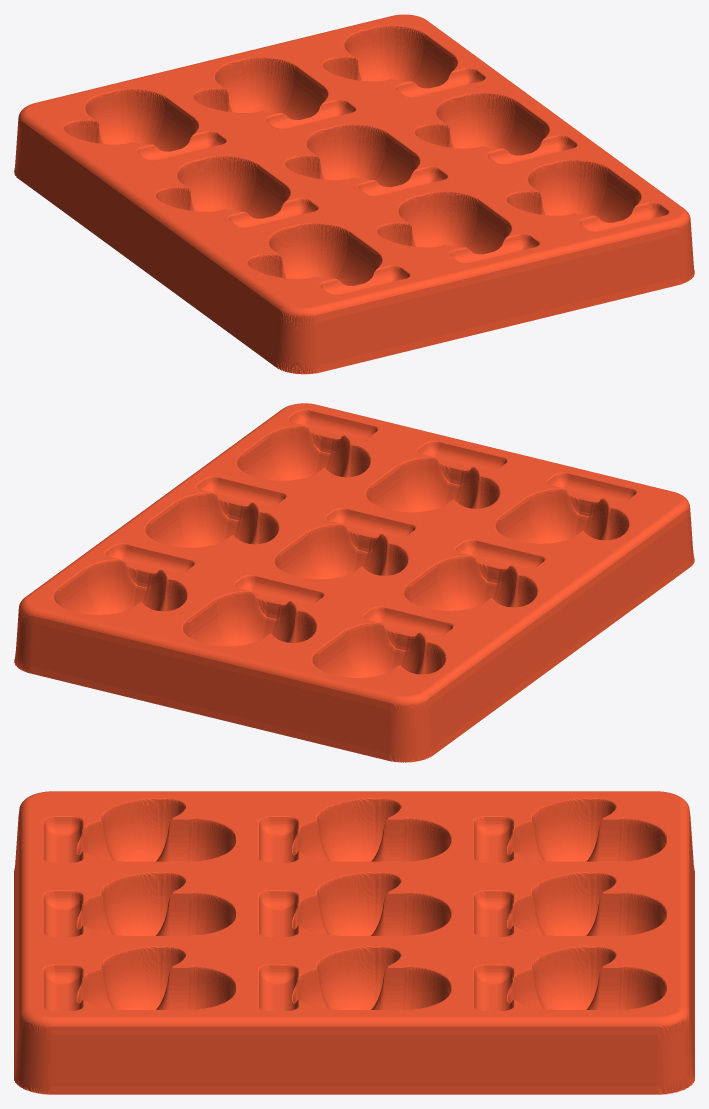
Rendered from mold.glb.
3 renders of one model, top to bottom at view 1: azimuth 30°, elevation 25°; view 2: azimuth 150°, elevation 25°; view 3: azimuth 270°, elevation 25°, orthographic. The views are drawn at different scales.
Visible parts, largest first — view 1: geometry_0; view 2: geometry_0; view 3: geometry_0.
Boxes of the visible parts, <box> form: geometry_0: <box>14,14,694,374</box>; geometry_0: <box>14,403,694,762</box>; geometry_0: <box>14,791,694,1094</box>.
Size of the model in its own units: 0.1315 by 0.0185 by 0.1595.
